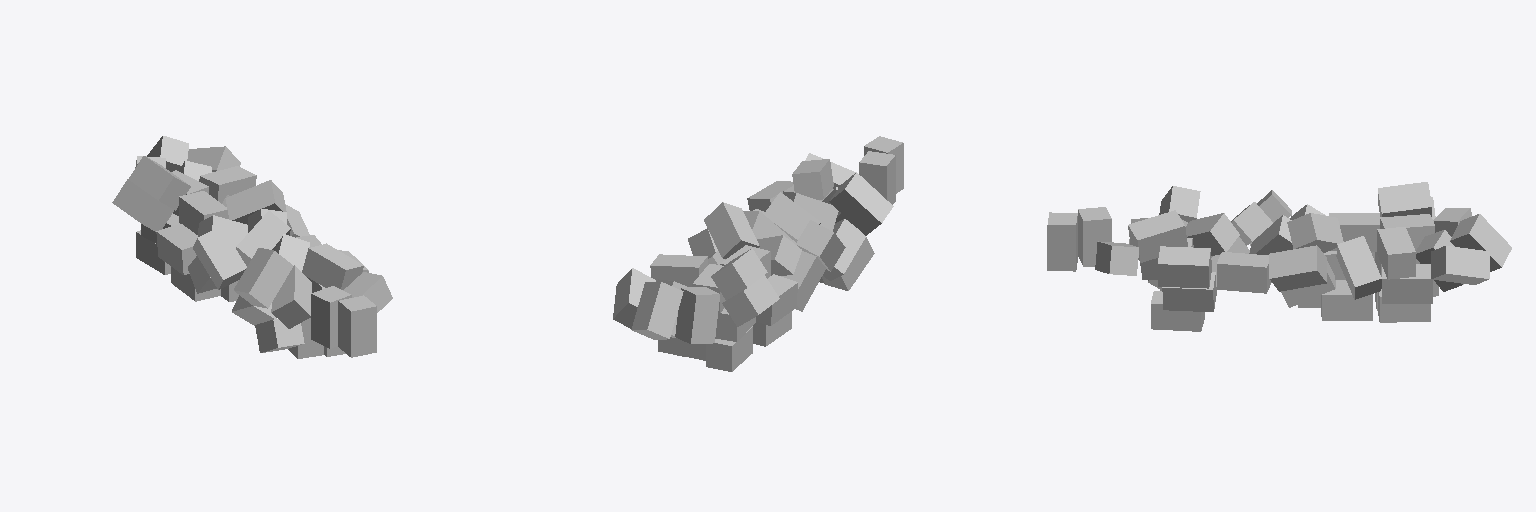
Rendered from bieres.obj.
3 renders of one model, left to right at view 1: azimuth 30°, elevation 25°; view 2: azimuth 150°, elevation 25°; view 3: azimuth 270°, elevation 25°, orthographic.
Parts seen in each view (by area): view 1: Cube_Cube.030_Cube_Cube.138, Cube_Cube.033_Cube_Cube.141, Cube_Cube.134_Cube_Cube.198, Cube_Cube.013_Cube_Cube.121, Cube_Cube.028_Cube_Cube.136, Cube_Cube.111_Cube_Cube.175, Cube_Cube.016_Cube_Cube.124, Cube_Cube.123_Cube_Cube.187, Cube_Cube.116_Cube_Cube.180, Cube_Cube.120_Cube_Cube.184, Cube_Cube.019_Cube_Cube.127, Cube_Cube.060_Cube_Cube.168 (+12 smaller); view 2: Cube_Cube.033_Cube_Cube.141, Cube_Cube.151_Cube_Cube.215, Cube_Cube.113_Cube_Cube.177, Cube_Cube.116_Cube_Cube.180, Cube_Cube.111_Cube_Cube.175, Cube_Cube.123_Cube_Cube.187, Cube_Cube.135_Cube_Cube.199, Cube_Cube.016_Cube_Cube.124, Cube_Cube.013_Cube_Cube.121, Cube_Cube.134_Cube_Cube.198, Cube_Cube.063_Cube_Cube.171, Cube_Cube.119_Cube_Cube.183 (+13 smaller); view 3: Cube_Cube.140_Cube_Cube.204, Cube_Cube.042_Cube_Cube.150, Cube_Cube.063_Cube_Cube.171, Cube_Cube.039_Cube_Cube.147, Cube_Cube.013_Cube_Cube.121, Cube_Cube.132_Cube_Cube.196, Cube_Cube.030_Cube_Cube.138, Cube_Cube.151_Cube_Cube.215, Cube_Cube.135_Cube_Cube.199, Cube_Cube.116_Cube_Cube.180, Cube_Cube.111_Cube_Cube.175, Cube_Cube.016_Cube_Cube.124 (+16 smaller).
Boxes of the visible parts, <box> form: Cube_Cube.030_Cube_Cube.138: <box>338,295,376,357</box>; Cube_Cube.033_Cube_Cube.141: <box>234,248,292,308</box>; Cube_Cube.134_Cube_Cube.198: <box>193,226,246,289</box>; Cube_Cube.013_Cube_Cube.121: <box>302,243,363,289</box>; Cube_Cube.028_Cube_Cube.136: <box>271,265,311,328</box>; Cube_Cube.111_Cube_Cube.175: <box>128,156,190,210</box>; Cube_Cube.016_Cube_Cube.124: <box>311,286,351,348</box>; Cube_Cube.123_Cube_Cube.187: <box>112,179,173,231</box>; Cube_Cube.116_Cube_Cube.180: <box>225,180,286,224</box>; Cube_Cube.120_Cube_Cube.184: <box>156,224,197,274</box>; Cube_Cube.019_Cube_Cube.127: <box>236,211,290,265</box>; Cube_Cube.060_Cube_Cube.168: <box>179,191,228,234</box>; Cube_Cube.033_Cube_Cube.141: <box>829,172,893,235</box>; Cube_Cube.151_Cube_Cube.215: <box>631,282,683,339</box>; Cube_Cube.113_Cube_Cube.177: <box>675,287,719,343</box>; Cube_Cube.116_Cube_Cube.180: <box>704,202,759,258</box>; Cube_Cube.111_Cube_Cube.175: <box>711,248,767,300</box>; Cube_Cube.123_Cube_Cube.187: <box>722,275,779,326</box>; Cube_Cube.135_Cube_Cube.199: <box>650,254,707,286</box>; Cube_Cube.016_Cube_Cube.124: <box>859,151,895,204</box>; Cube_Cube.013_Cube_Cube.121: <box>792,159,833,199</box>; Cube_Cube.134_Cube_Cube.198: <box>796,220,845,271</box>; Cube_Cube.063_Cube_Cube.171: <box>613,268,655,328</box>; Cube_Cube.119_Cube_Cube.183: <box>706,326,752,371</box>; Cube_Cube.140_Cube_Cube.204: <box>1269,245,1326,291</box>; Cube_Cube.042_Cube_Cube.150: <box>1158,246,1211,288</box>; Cube_Cube.063_Cube_Cube.171: <box>1431,246,1489,284</box>; Cube_Cube.039_Cube_Cube.147: <box>1217,252,1271,293</box>; Cube_Cube.013_Cube_Cube.121: <box>1128,210,1187,262</box>; Cube_Cube.132_Cube_Cube.196: <box>1336,236,1381,299</box>; Cube_Cube.030_Cube_Cube.138: <box>1047,212,1077,271</box>; Cube_Cube.151_Cube_Cube.215: <box>1450,214,1511,271</box>; Cube_Cube.135_Cube_Cube.199: <box>1377,227,1415,279</box>; Cube_Cube.116_Cube_Cube.180: <box>1287,213,1343,252</box>; Cube_Cube.111_Cube_Cube.175: <box>1378,182,1431,216</box>; Cube_Cube.016_Cube_Cube.124: <box>1078,207,1111,266</box>.
Size of the model in its own units: 9.57 by 7.75 by 28.24.